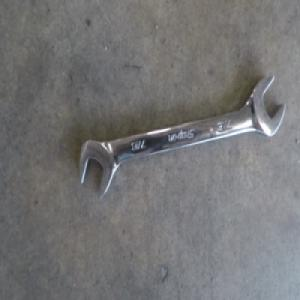Wrench: (78, 75, 283, 200)
